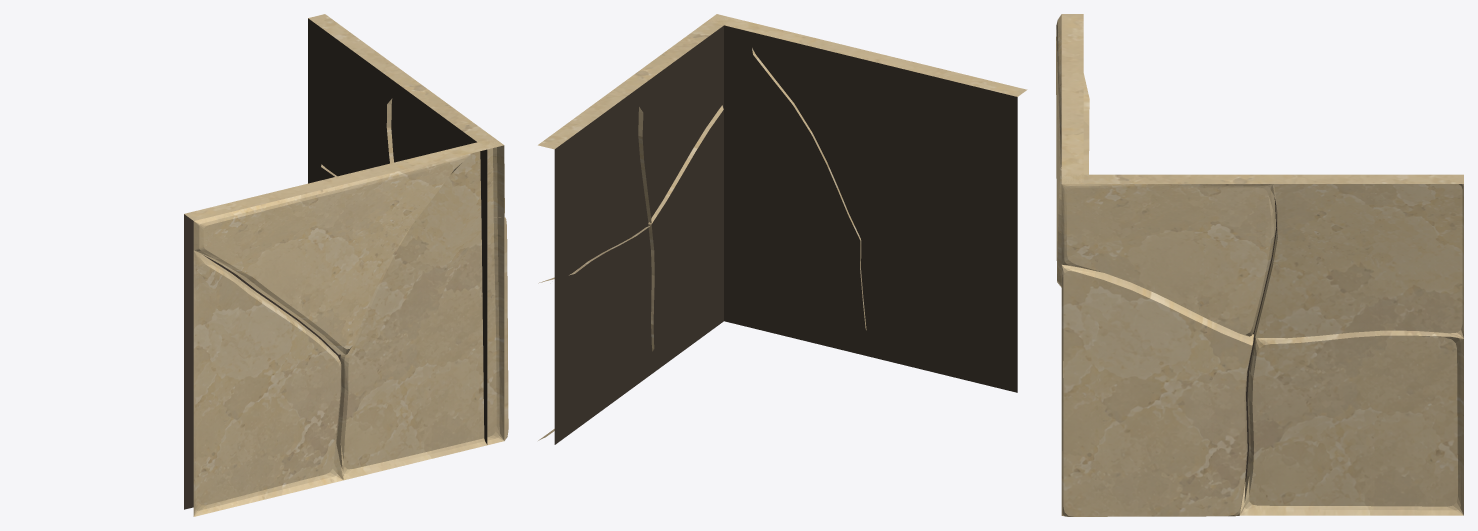
The model's file is ground_corner_01.glb.
3 views of the same model, side by side, from view 1: azimuth 30°, elevation 25°; view 2: azimuth 150°, elevation 25°; view 3: azimuth 270°, elevation 25° (orthographic). The views are drawn at different scales.
Parts seen in each view (by area): view 1: GroundCorner01_Body; view 2: GroundCorner01_Body; view 3: GroundCorner01_Body.
Part boxes in pixels (<box>): GroundCorner01_Body: <box>184,14,508,516</box>; GroundCorner01_Body: <box>538,14,1027,444</box>; GroundCorner01_Body: <box>1056,14,1463,516</box>.
Bounding box in the file's own units: 1.02 × 0.91 × 1.01.
9 materials, 8 textured.
